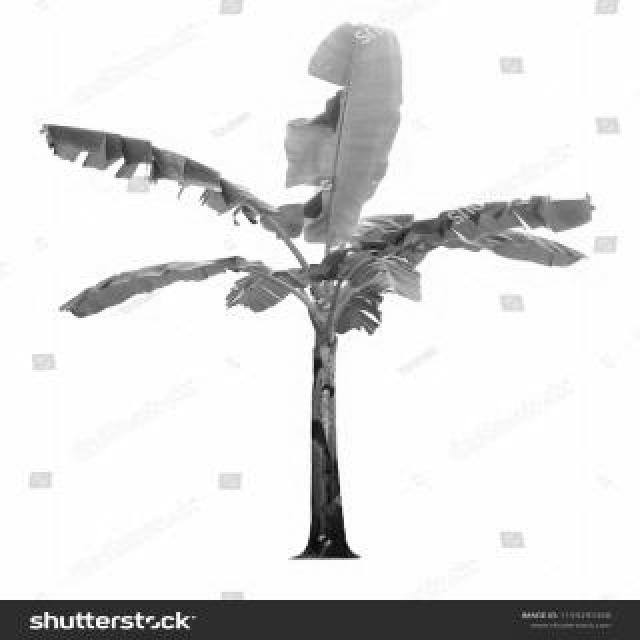Pisang: (46, 32, 590, 555)
